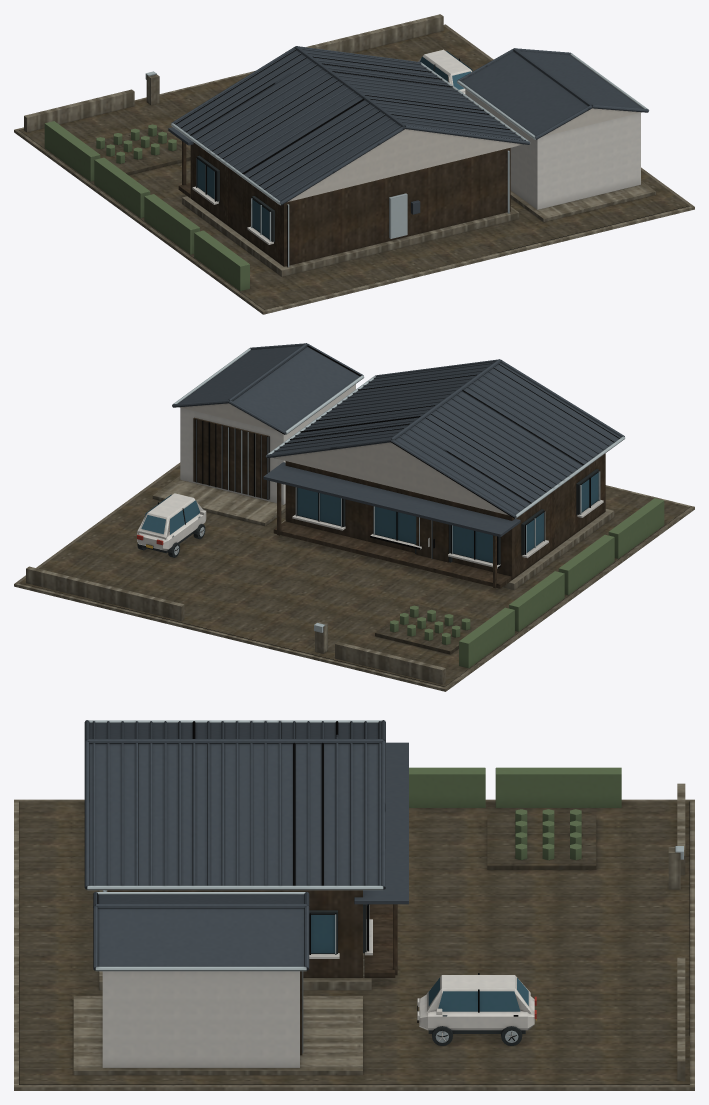
File: rural_house_002.obj
3 views of the same model, one above another, from view 1: azimuth 30°, elevation 25°; view 2: azimuth 150°, elevation 25°; view 3: azimuth 270°, elevation 25° (orthographic). The views are drawn at different scales.
Visible parts, largest first — view 1: rural_house_002; view 2: rural_house_002; view 3: rural_house_002.
Boxes of the visible parts, x1=… form: rural_house_002: x1=14, y1=14, x2=694, y2=314; rural_house_002: x1=14, y1=343, x2=694, y2=691; rural_house_002: x1=14, y1=720, x2=694, y2=1090.
Bounding box in the file's own units: 20 × 5.71 × 20.
Materials: 1 (1 with a texture image).
